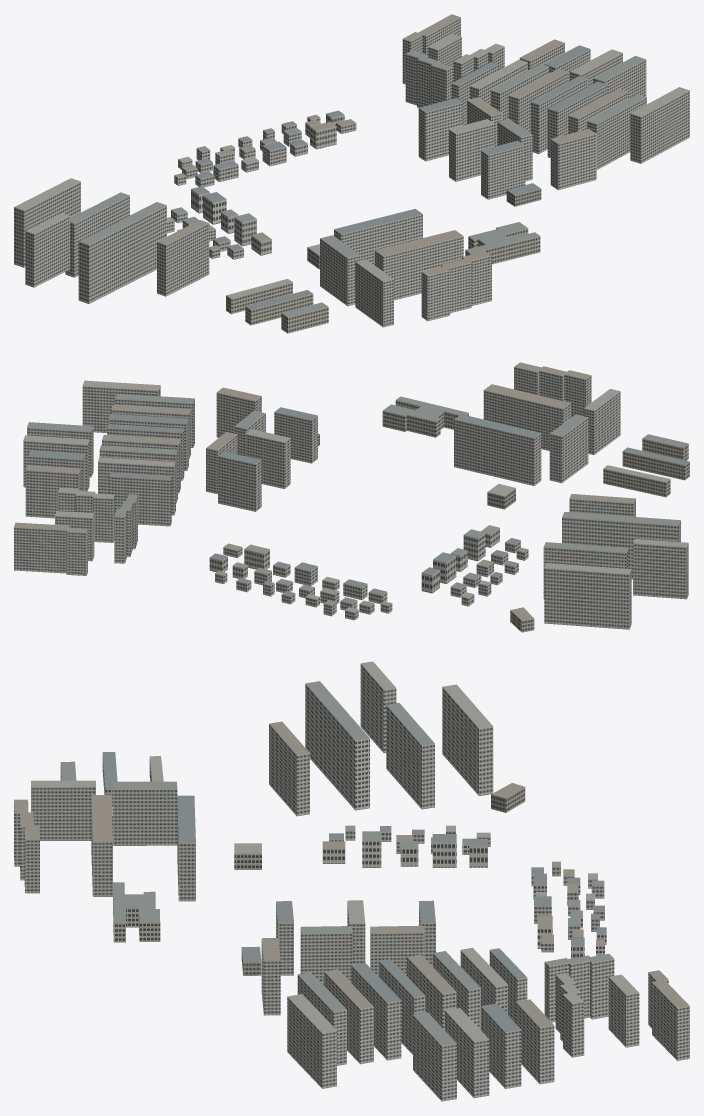
The picture shows the model from 3 angles, top to bottom: view 1: azimuth 30°, elevation 25°; view 2: azimuth 150°, elevation 25°; view 3: azimuth 270°, elevation 25°; orthographic projection. The views are drawn at different scales.
Parts seen in each view (by area): view 1: ctx-apartments, ctx-roof-0, ctx-roof-1, ctx-roof-2, ctx-roof-3, ctx-school, ctx-other; view 2: ctx-apartments, ctx-roof-0, ctx-roof-1, ctx-roof-2, ctx-school, ctx-roof-3, ctx-other; view 3: ctx-apartments, ctx-roof-0, ctx-roof-1, ctx-roof-2, ctx-roof-3, ctx-other, ctx-school.
Part boxes in pixels (bbox=[...]): ctx-apartments: bbox=[14, 17, 689, 327]; ctx-roof-0: bbox=[70, 50, 646, 317]; ctx-roof-1: bbox=[157, 14, 627, 275]; ctx-roof-2: bbox=[177, 45, 607, 309]; ctx-roof-3: bbox=[14, 34, 689, 298]; ctx-school: bbox=[226, 228, 540, 333]; ctx-other: bbox=[307, 188, 541, 269]; ctx-apartments: bbox=[14, 367, 688, 629]; ctx-roof-0: bbox=[27, 393, 688, 605]; ctx-roof-1: bbox=[14, 362, 635, 620]; ctx-roof-2: bbox=[28, 407, 689, 603]; ctx-school: bbox=[382, 400, 689, 497]; ctx-roof-3: bbox=[23, 380, 688, 612]; ctx-other: bbox=[318, 434, 534, 632]; ctx-apartments: bbox=[14, 664, 689, 1101]; ctx-roof-0: bbox=[60, 681, 613, 1045]; ctx-roof-1: bbox=[14, 721, 689, 1027]; ctx-roof-2: bbox=[102, 752, 606, 1032]; ctx-roof-3: bbox=[31, 661, 638, 1041]; ctx-other: bbox=[234, 787, 525, 975]; ctx-school: bbox=[60, 755, 160, 942].
Size of the model in its own units: 706 by 75.56 by 538.
Materials: 7 (3 with a texture image).
